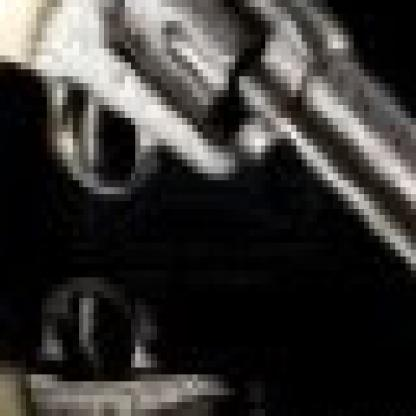gun: (0, 0, 411, 409), (0, 187, 411, 409)
